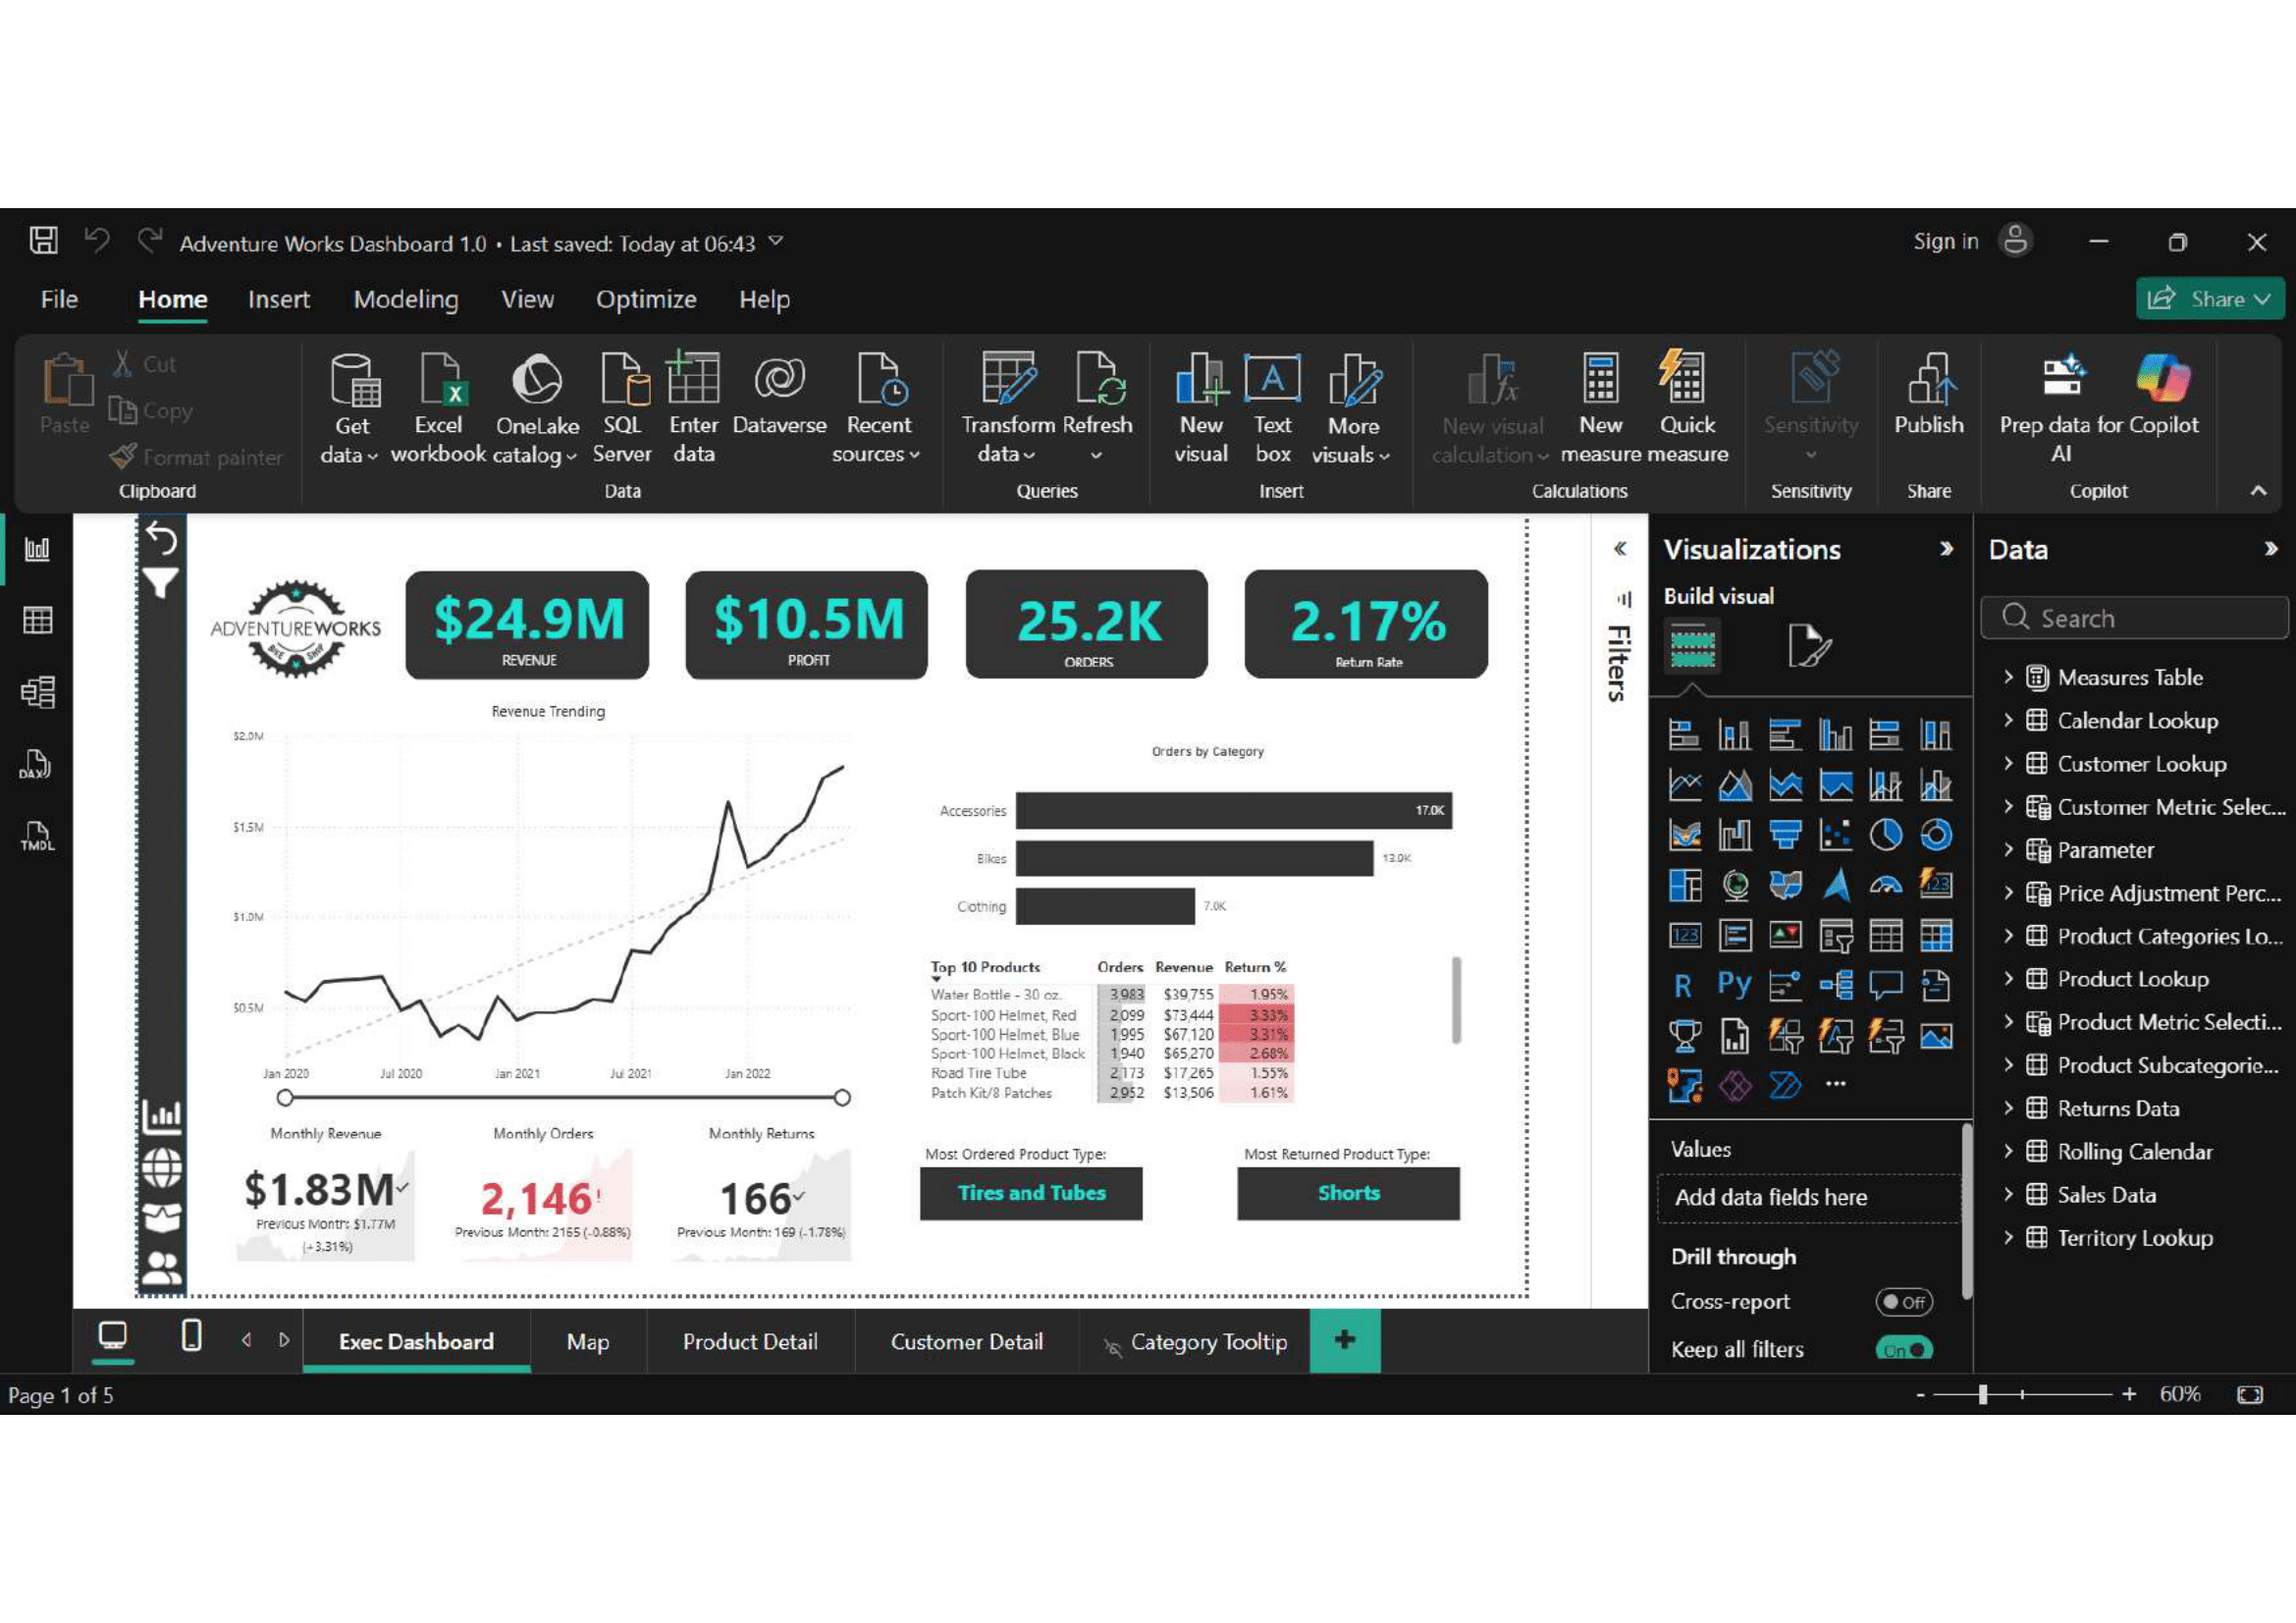

The dashboard page shown, as its layout file describes it:
{"tool":"powerbi","page":{"name":"Exec Dashboard","canvas":[1280,720],"ordinal":0},"visuals":[{"type":"shape","title":"Left Nav Background","box":[0,0,45,720],"z":0},{"type":"group","id":"g1","title":"KPI Backgrounds","box":[247.6,51.8,999.9,101.9],"z":0,"group":"g2"},{"type":"card","fields":{"Values":["Measures Table.Total Revenue"]},"box":[260.5,51.8,202.2,100.3],"z":0,"group":"g3"},{"type":"shape","box":[247.6,53.4,224.9,100.3],"z":0,"group":"g1"},{"type":"actionButton","box":[0,533.7,44.8,46.6],"z":0,"group":"g4"},{"type":"group","id":"g2","title":"KPIs","box":[247.6,51.8,999.9,101.9],"z":1000},{"type":"group","id":"g3","title":"KPI Values","box":[260.5,51.8,977.3,101.9],"z":1000,"group":"g2"},{"type":"shape","box":[764.3,51.8,224.9,100.3],"z":1000,"group":"g1"},{"type":"card","fields":{"Values":["Measures Table.Total Profit"]},"box":[518.8,52.3,202.2,100.3],"z":1000,"group":"g3"},{"type":"actionButton","box":[0,580.3,44.8,46.6],"z":1000,"group":"g4"},{"type":"image","title":"AW Logo","box":[45.3,0,202.2,212],"z":2000},{"type":"card","fields":{"Values":["Measures Table.Total Orders"]},"box":[777.2,52.9,202.2,100.3],"z":2000,"group":"g3"},{"type":"shape","box":[505.9,53.4,224.9,100.3],"z":2000,"group":"g1"},{"type":"actionButton","box":[0,626.8,44.8,46.6],"z":2000,"group":"g4"},{"type":"shape","box":[1022.6,51.8,224.9,100.3],"z":3000,"group":"g1"},{"type":"card","fields":{"Values":["Measures Table.Return Rate"]},"box":[1035.5,53.4,202.2,100.3],"z":3000,"group":"g3"},{"type":"lineChart","title":"Revenue Trending","fields":{"Y":["Measures Table.Total Revenue"],"Category":["Calendar Lookup.Year","Calendar Lookup.Start of Quarter","Calendar Lookup.Start of Month"]},"box":[80.9,171.5,595.4,377],"z":3000},{"type":"actionButton","box":[0,673.4,44.8,46.6],"z":3000,"group":"g4"},{"type":"kpi","title":"Monthly Revenue","fields":{"Indicator":["Measures Table.Total Revenue"],"TrendLine":["Calendar Lookup.Start of Month"],"Goal":["Measures Table.Previous Month Revenue"]},"box":[85.8,562,174.7,132.7],"z":4000},{"type":"kpi","title":"Monthly Orders","fields":{"TrendLine":["Calendar Lookup.Start of Month"],"Indicator":["Measures Table.Total Orders"],"Goal":["Measures Table.Previous Month Orders"]},"box":[287.2,562,174.7,132.7],"z":5000},{"type":"kpi","title":"Monthly Returns","fields":{"TrendLine":["Calendar Lookup.Start of Month"],"Indicator":["Measures Table.Total Returns"],"Goal":["Measures Table.Previous Month Returns"]},"box":[488.6,562,174.7,132.7],"z":6000},{"type":"clusteredBarChart","title":"Orders by Category","fields":{"Category":["Product Categories Lookup.CategoryName"],"Y":["Measures Table.Total Orders"]},"box":[731.3,212,516.1,190.9],"z":7000},{"type":"pivotTable","fields":{"Rows":["Product Lookup.ProductName"],"Values":["Measures Table.Total Orders","Measures Table.Total Revenue","Measures Table.Return Rate"]},"box":[721.6,402.9,504.8,145.6],"z":8000},{"type":"card","fields":{"Values":["Min(Product Subcategories Lookup.SubcategoryName)"]},"box":[721.6,603.5,205.5,48.5],"z":9000},{"type":"textbox","box":[721.8,574,194.3,29.6],"z":10000},{"type":"card","fields":{"Values":["Min(Product Subcategories Lookup.SubcategoryName)"]},"box":[1016.1,603.5,205.5,48.5],"z":11000},{"type":"textbox","box":[1016.4,574,193.4,29.6],"z":12000},{"type":"actionButton","box":[0,0,44.8,43],"z":13000},{"type":"group","id":"g4","title":"Navigation Buttons","box":[0,533.7,44.8,186.3],"z":14000},{"type":"actionButton","box":[0,43,45.7,41.2],"z":15000}]}

Visuals, with their boxes on the page's 1280x720 design canvas (x1, y1, x2, y2). These are canvas units, not pixel positions in the 2296x1623 screenshot, which may show the page scaled, cropped or inside an application window:
"Left Nav Background" shape: {"x1": 0, "y1": 0, "x2": 45, "y2": 720}
"KPI Backgrounds" group: {"x1": 248, "y1": 52, "x2": 1248, "y2": 154}
card - Measures Table.Total Revenue: {"x1": 260, "y1": 52, "x2": 463, "y2": 152}
shape: {"x1": 248, "y1": 53, "x2": 472, "y2": 154}
actionButton: {"x1": 0, "y1": 534, "x2": 45, "y2": 580}
"KPIs" group: {"x1": 248, "y1": 52, "x2": 1248, "y2": 154}
"KPI Values" group: {"x1": 260, "y1": 52, "x2": 1238, "y2": 154}
shape: {"x1": 764, "y1": 52, "x2": 989, "y2": 152}
card - Measures Table.Total Profit: {"x1": 519, "y1": 52, "x2": 721, "y2": 153}
actionButton: {"x1": 0, "y1": 580, "x2": 45, "y2": 627}
"AW Logo" image: {"x1": 45, "y1": 0, "x2": 248, "y2": 212}
card - Measures Table.Total Orders: {"x1": 777, "y1": 53, "x2": 979, "y2": 153}
shape: {"x1": 506, "y1": 53, "x2": 731, "y2": 154}
actionButton: {"x1": 0, "y1": 627, "x2": 45, "y2": 673}
shape: {"x1": 1023, "y1": 52, "x2": 1248, "y2": 152}
card - Measures Table.Return Rate: {"x1": 1036, "y1": 53, "x2": 1238, "y2": 154}
"Revenue Trending" lineChart: {"x1": 81, "y1": 172, "x2": 676, "y2": 548}
actionButton: {"x1": 0, "y1": 673, "x2": 45, "y2": 720}
"Monthly Revenue" kpi: {"x1": 86, "y1": 562, "x2": 260, "y2": 695}
"Monthly Orders" kpi: {"x1": 287, "y1": 562, "x2": 462, "y2": 695}
"Monthly Returns" kpi: {"x1": 489, "y1": 562, "x2": 663, "y2": 695}
"Orders by Category" clusteredBarChart: {"x1": 731, "y1": 212, "x2": 1247, "y2": 403}
pivotTable - Product Lookup.ProductName x Measures Table.Total Orders: {"x1": 722, "y1": 403, "x2": 1226, "y2": 548}
card - Min(Product Subcategories Lookup.SubcategoryName): {"x1": 722, "y1": 604, "x2": 927, "y2": 652}
textbox: {"x1": 722, "y1": 574, "x2": 916, "y2": 604}
card - Min(Product Subcategories Lookup.SubcategoryName): {"x1": 1016, "y1": 604, "x2": 1222, "y2": 652}
textbox: {"x1": 1016, "y1": 574, "x2": 1210, "y2": 604}
actionButton: {"x1": 0, "y1": 0, "x2": 45, "y2": 43}
"Navigation Buttons" group: {"x1": 0, "y1": 534, "x2": 45, "y2": 720}
actionButton: {"x1": 0, "y1": 43, "x2": 46, "y2": 84}
